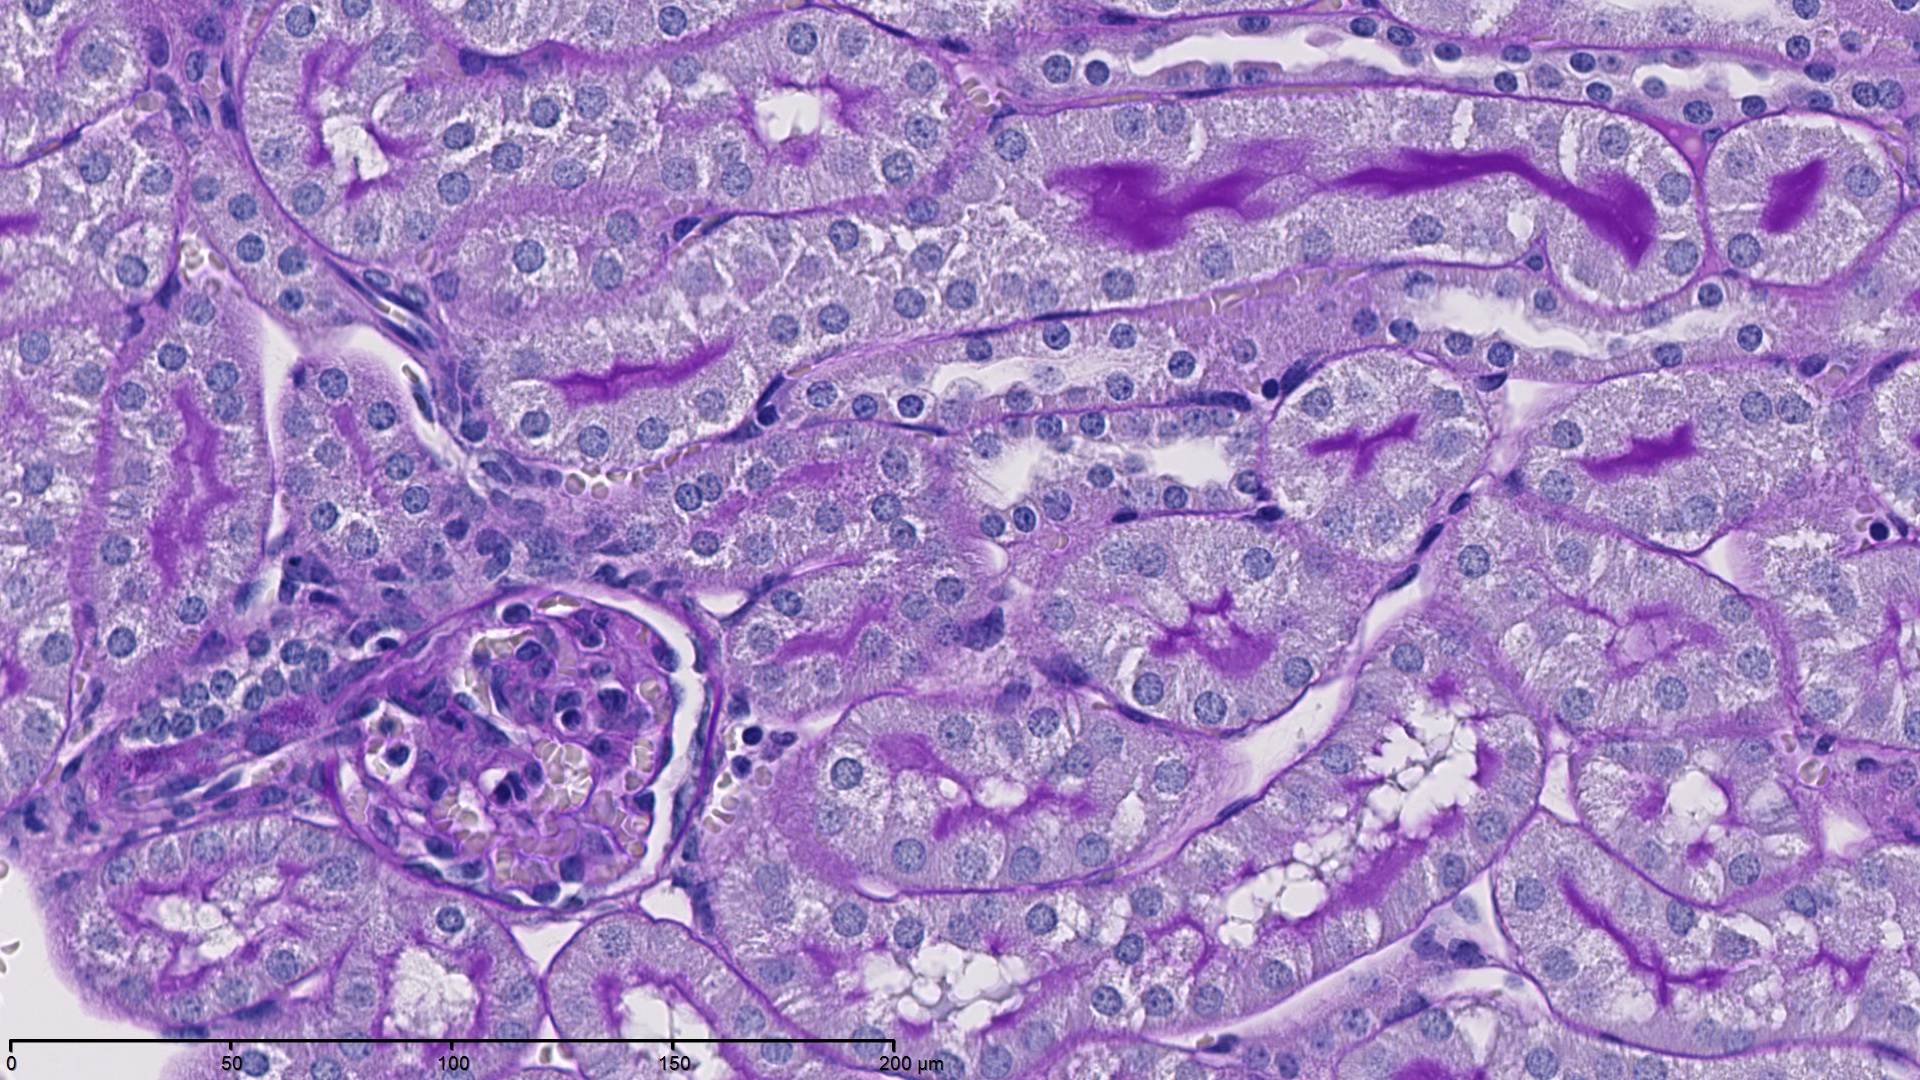Glomeruli: (320, 549, 737, 914)
